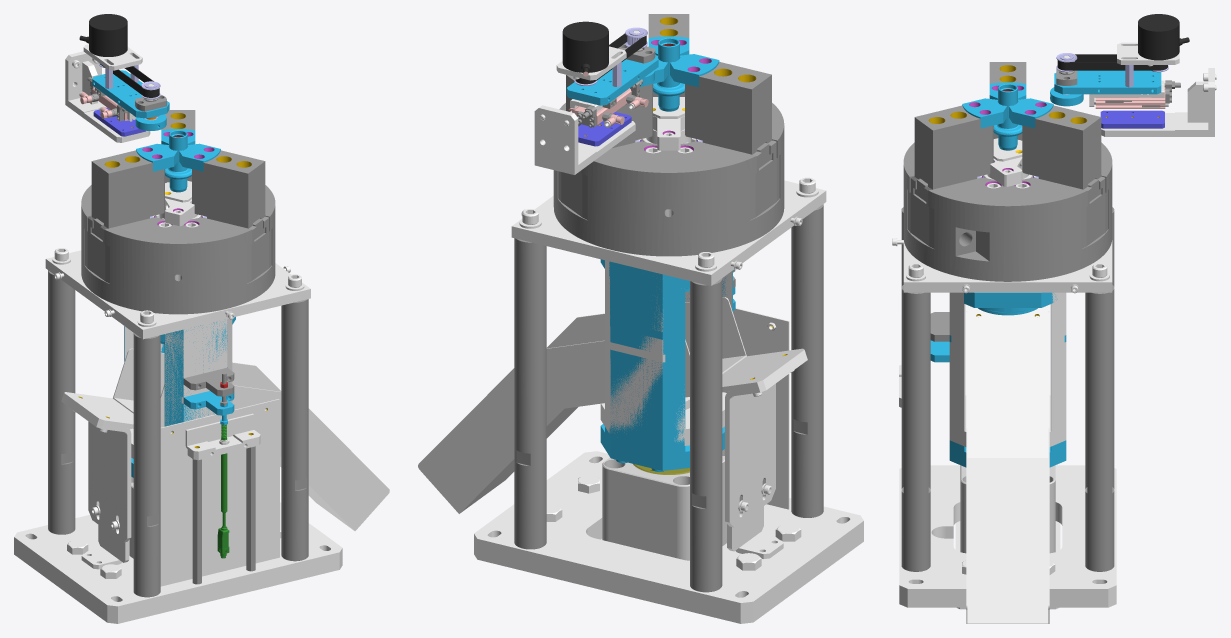
Rendered from hydro_chuck.obj.
3 views of the same model, side by side, from view 1: azimuth 30°, elevation 25°; view 2: azimuth 150°, elevation 25°; view 3: azimuth 270°, elevation 25° (orthographic). The views are drawn at different scales.
Visible parts, largest first — view 1: obj6, obj2, obj5, obj3, obj12, obj4, obj8, obj16, obj7, obj11, obj18; view 2: obj6, obj5, obj12, obj3, obj8, obj2, obj4, obj15, obj16, obj18, obj13; view 3: obj5, obj3, obj6, obj12, obj4, obj2, obj8, obj16, obj15, obj18, obj13, obj11.
Boxes of the visible parts, left/top/right/bottom form: obj6: left=48, top=218, right=308, bottom=597; obj2: left=45, top=91, right=310, bottom=586; obj5: left=52, top=44, right=389, bottom=578; obj3: left=81, top=185, right=275, bottom=314; obj12: left=14, top=392, right=342, bottom=623; obj4: left=87, top=77, right=265, bottom=405; obj8: left=92, top=70, right=235, bottom=477; obj16: left=79, top=14, right=159, bottom=97; obj7: left=217, top=424, right=229, bottom=558; obj11: left=78, top=109, right=267, bottom=448; obj18: left=93, top=107, right=145, bottom=136; obj6: left=514, top=142, right=823, bottom=592; obj5: left=418, top=30, right=818, bottom=570; obj12: left=474, top=348, right=863, bottom=623; obj3: left=553, top=103, right=784, bottom=256; obj8: left=566, top=36, right=735, bottom=471; obj2: left=511, top=97, right=826, bottom=509; obj4: left=566, top=14, right=771, bottom=154; obj15: left=602, top=449, right=726, bottom=560; obj16: left=562, top=21, right=646, bottom=84; obj18: left=578, top=112, right=631, bottom=146; obj13: left=568, top=71, right=648, bottom=126; obj5: left=899, top=42, right=1216, bottom=623; obj3: left=903, top=142, right=1112, bottom=281; obj6: left=901, top=207, right=1114, bottom=571; obj12: left=899, top=305, right=1116, bottom=607; obj4: left=914, top=62, right=1180, bottom=189; obj2: left=892, top=80, right=1164, bottom=431; obj8: left=930, top=70, right=1161, bottom=467; obj16: left=1057, top=14, right=1189, bottom=70; obj15: left=960, top=465, right=1055, bottom=553; obj18: left=1100, top=110, right=1164, bottom=128; obj13: left=1095, top=87, right=1165, bottom=108; obj11: left=928, top=65, right=1159, bottom=316.
Bounding box in the file's own units: 461 × 707 × 389.
